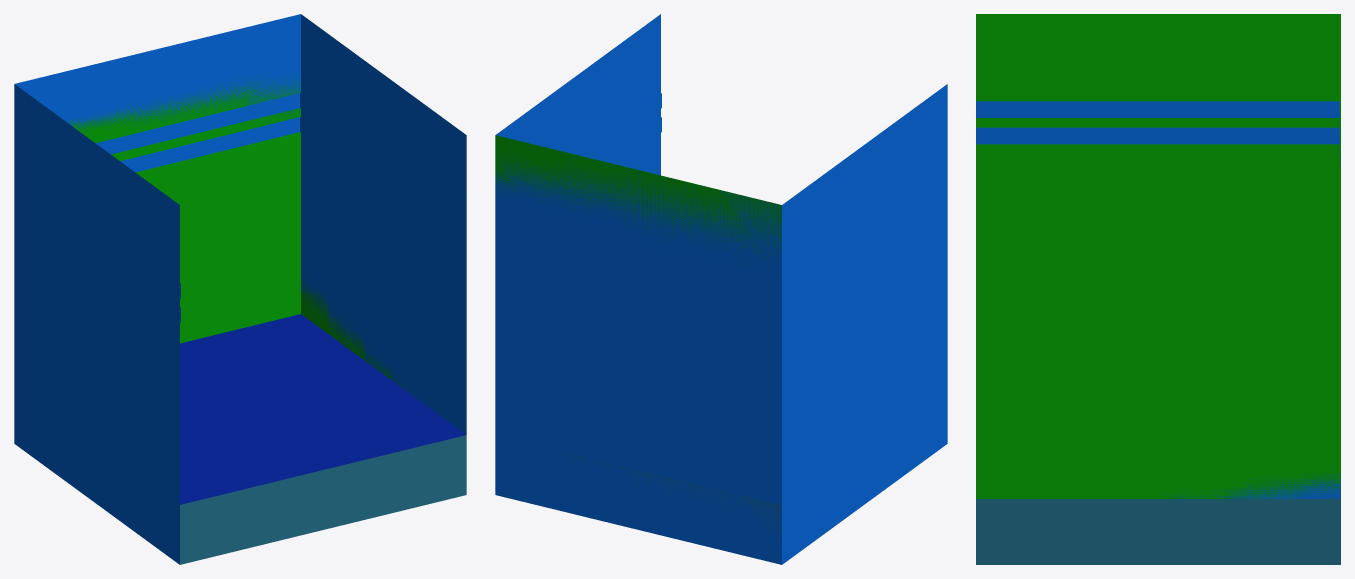
Rendered from tile_corridor_end.fbx.
3 renders of one model, left to right at view 1: azimuth 30°, elevation 25°; view 2: azimuth 150°, elevation 25°; view 3: azimuth 270°, elevation 25°, orthographic. The views are drawn at different scales.
Parts seen in each view (by area): view 1: wall030, tile_floor008, wall031, wall_backface065, wall032, wall_backface067; view 2: wall032, wall030, wall031, wall_backface065, tile_floor008; view 3: wall_backface067, wall_backface066, tile_floor008, wall030, wall031.
Part boxes in pixels (<box>): wall030: <box>14,84,180,564</box>; tile_floor008: <box>180,314,466,564</box>; wall031: <box>300,14,466,434</box>; wall_backface065: <box>68,74,300,343</box>; wall032: <box>15,14,300,172</box>; wall_backface067: <box>301,275,408,392</box>; wall032: <box>495,142,781,564</box>; wall030: <box>782,84,947,564</box>; wall031: <box>496,14,661,175</box>; wall_backface065: <box>495,135,781,262</box>; tile_floor008: <box>499,436,781,540</box>; wall_backface067: <box>976,168,1340,498</box>; wall_backface066: <box>976,14,1340,168</box>; tile_floor008: <box>976,499,1340,564</box>; wall030: <box>976,101,1339,144</box>; wall031: <box>1162,471,1340,498</box>.
Size of the model in its own units: 5 by 6 by 5.
